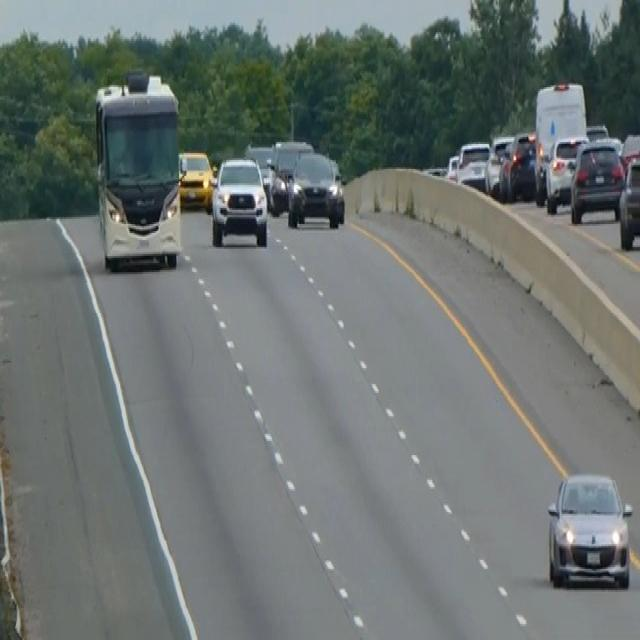bus: (92, 66, 184, 272)
car: (544, 466, 634, 590), (210, 153, 268, 247), (569, 135, 624, 224), (286, 148, 345, 230), (544, 132, 589, 212), (266, 137, 313, 213), (499, 130, 537, 201), (177, 148, 214, 210), (618, 151, 639, 249), (455, 139, 490, 192), (484, 134, 513, 196), (243, 140, 274, 198), (620, 130, 639, 170), (444, 151, 459, 181)
